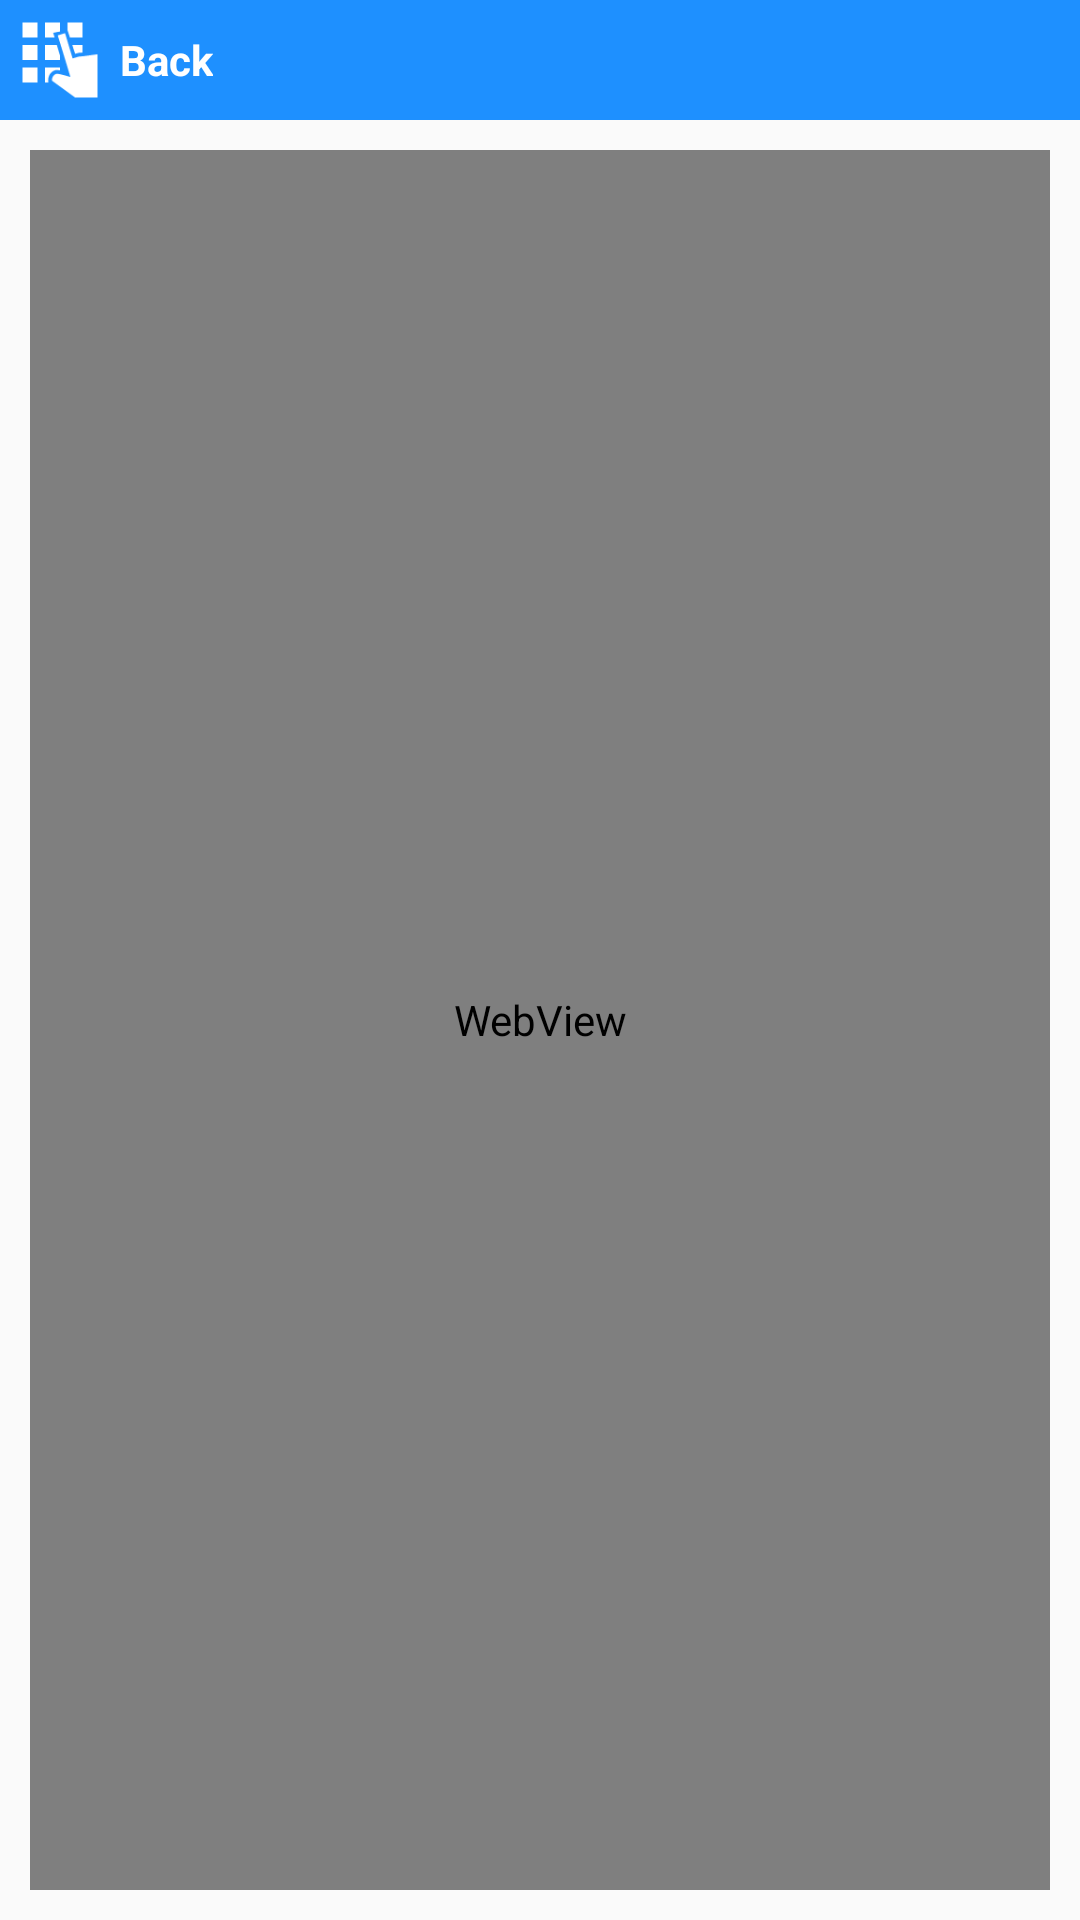

Locate icon controls on the screen. Image size 1080px×1920px, boxes as (x1, y1, x2, y2).
enterpin: (22, 22, 98, 98)
